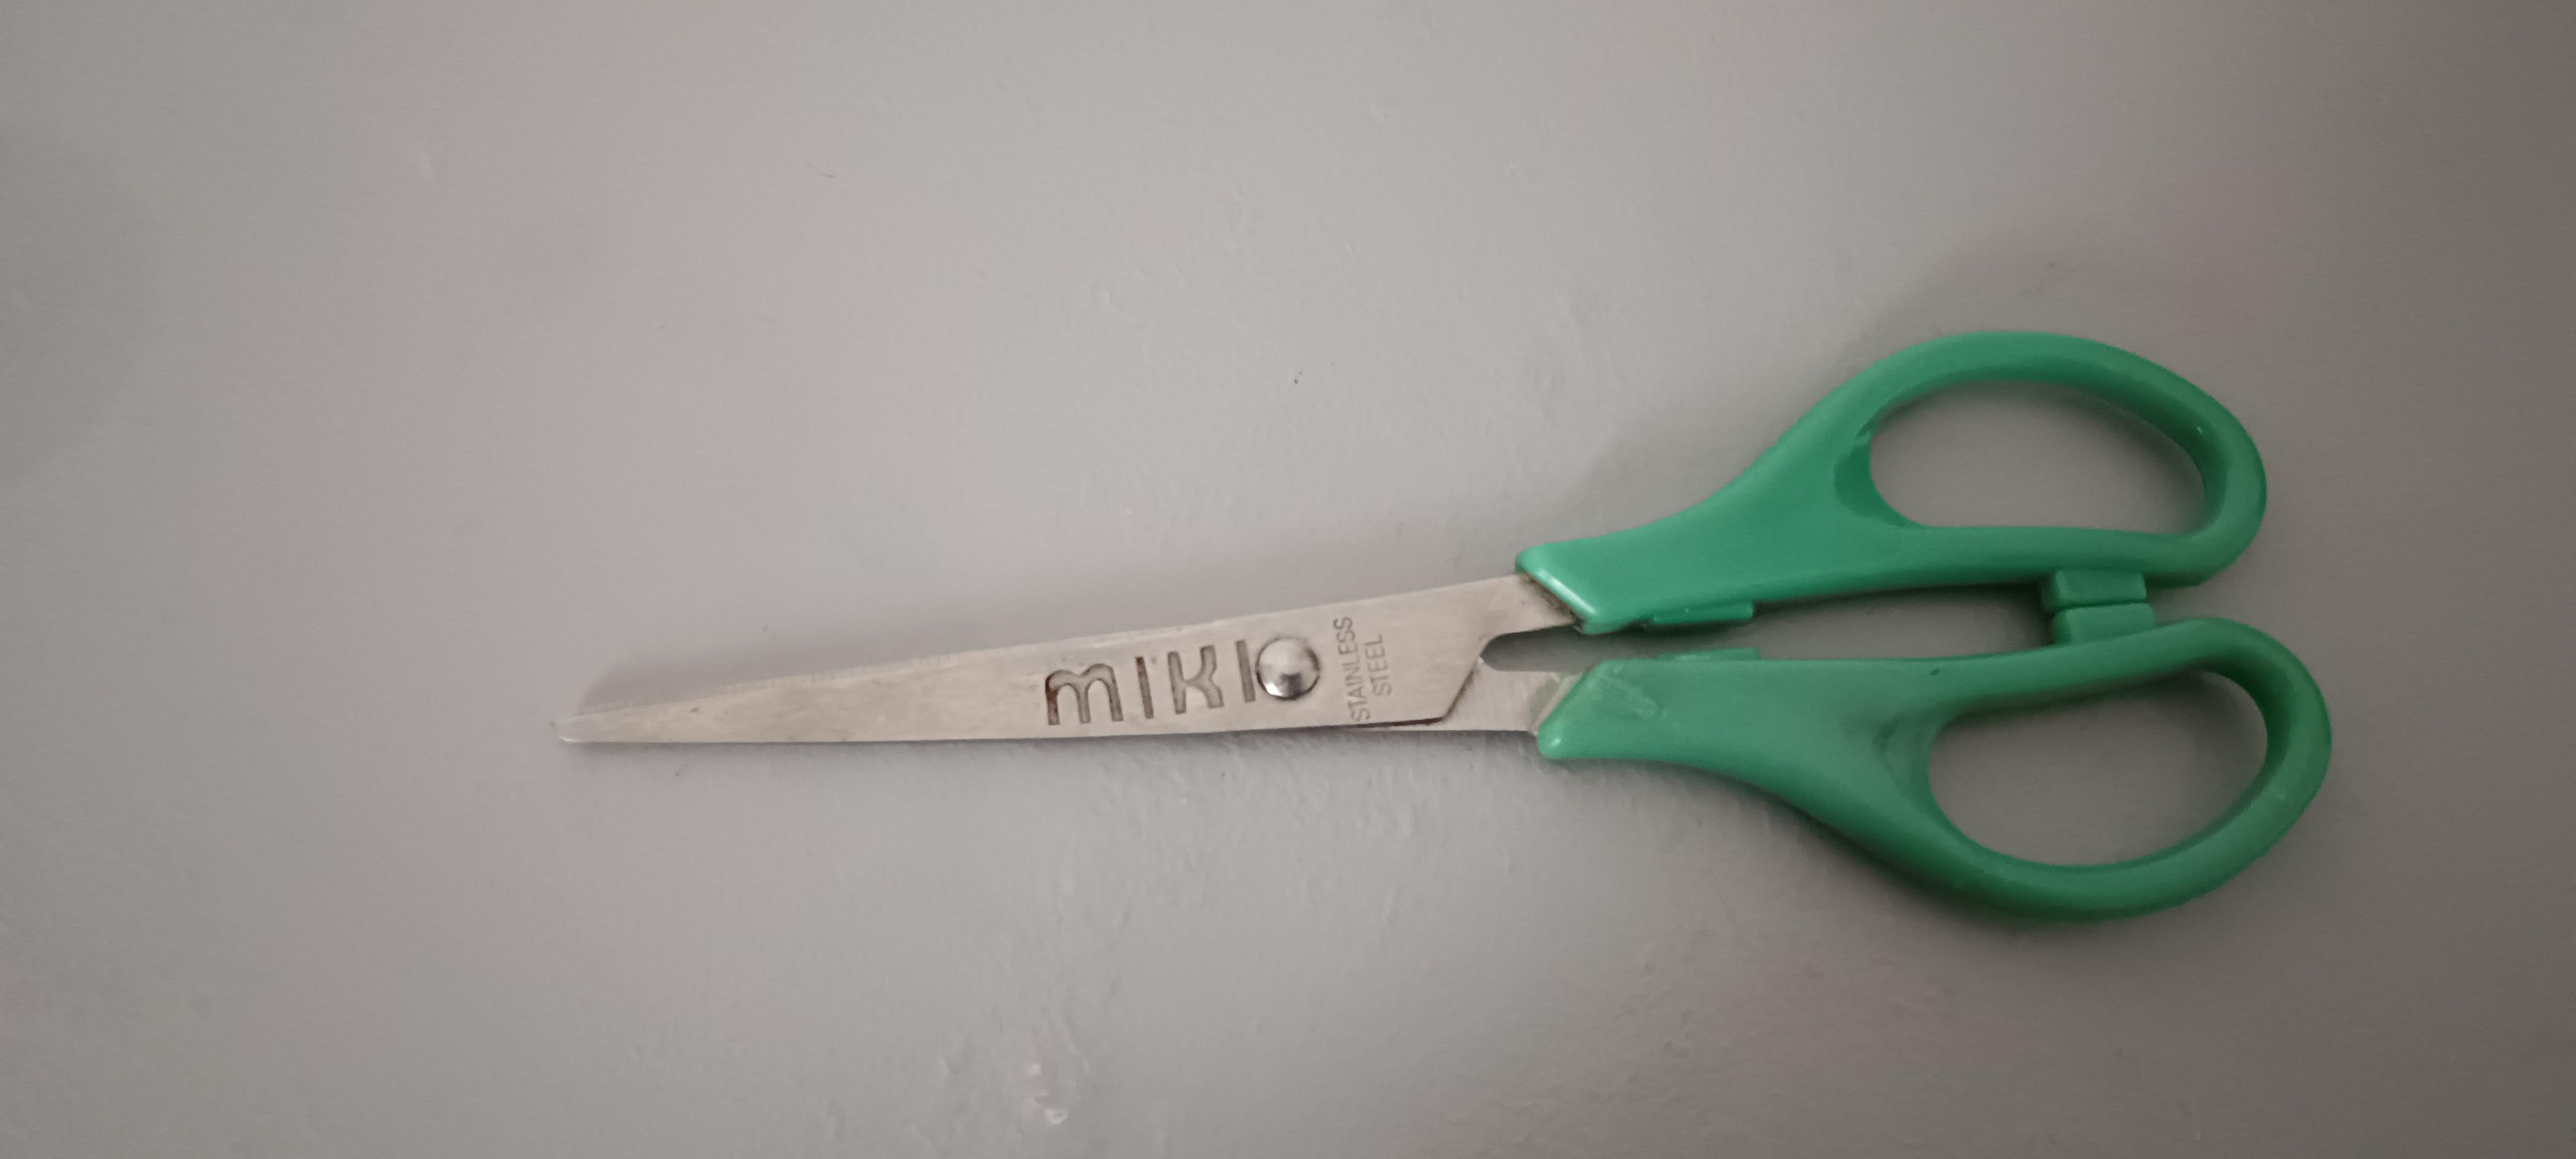Scissors: (514, 266, 2400, 1010)
